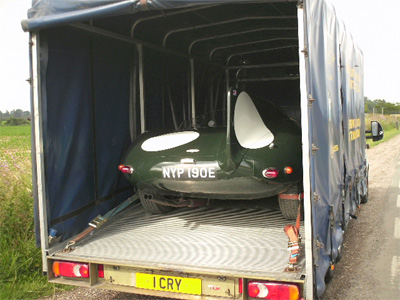licencePlate: (137, 271, 209, 294)
